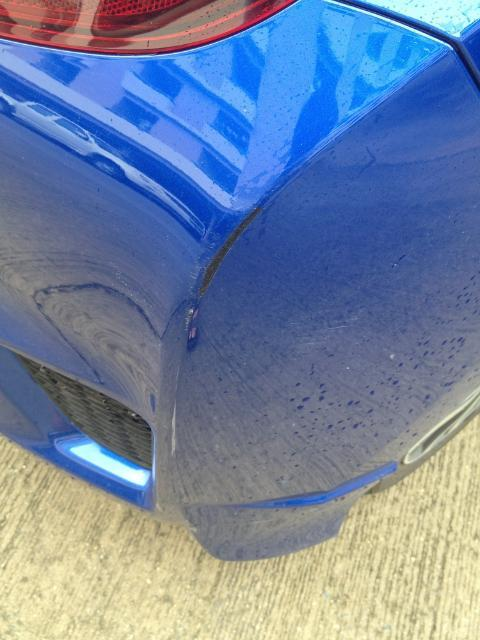scratch: (177, 193, 271, 350)
